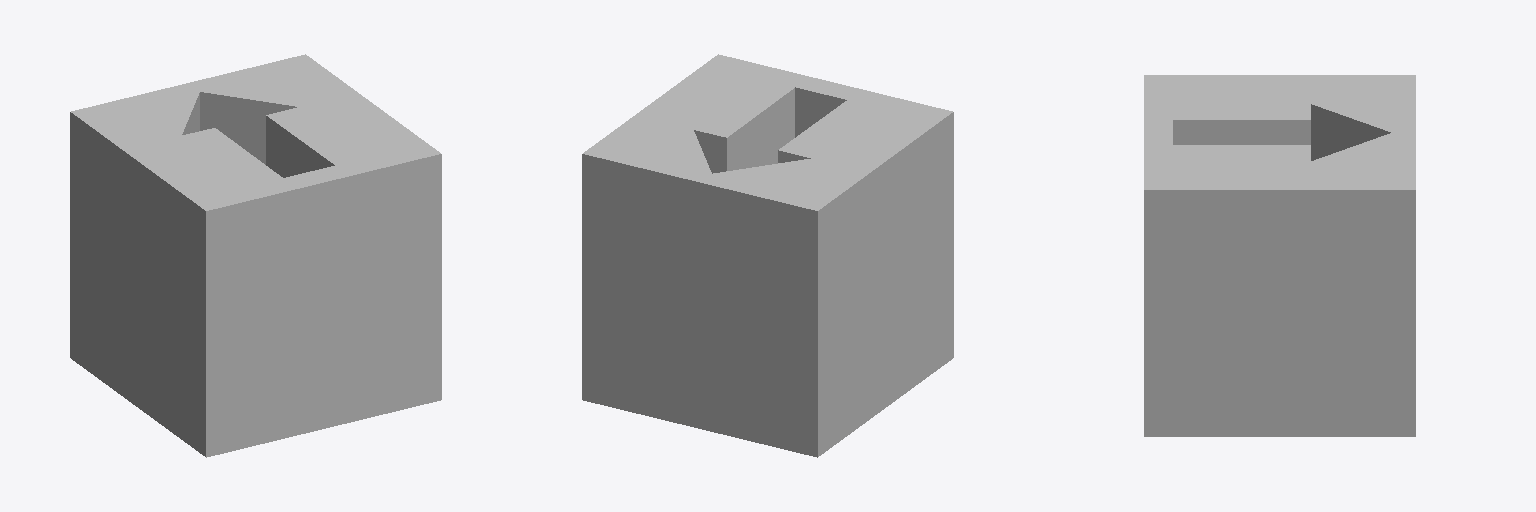
File: Arrow_cube_bottle_preprocessed.obj
The picture shows the model from 3 angles: view 1: azimuth 30°, elevation 25°; view 2: azimuth 150°, elevation 25°; view 3: azimuth 270°, elevation 25°; orthographic projection.
Bounding box in the file's own units: 0.08 × 0.08 × 0.08.